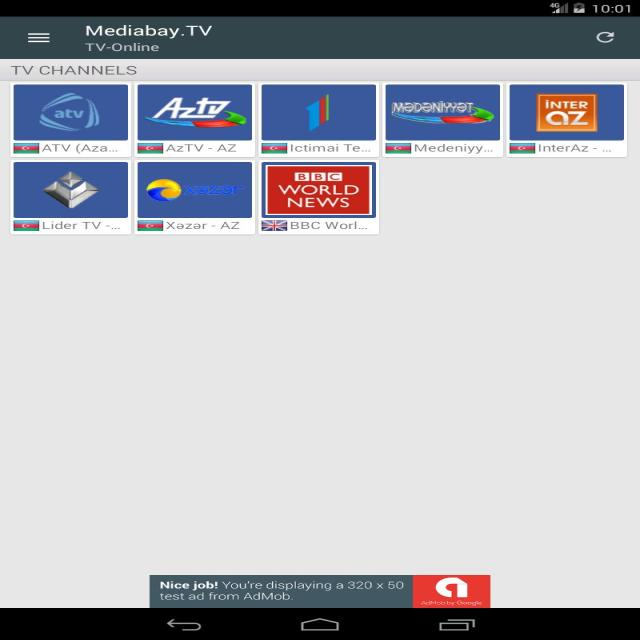button: (136, 160, 255, 237), (507, 82, 624, 159), (258, 82, 376, 158), (261, 160, 377, 236), (11, 83, 129, 157), (136, 83, 252, 157), (384, 83, 500, 157), (14, 162, 129, 235), (585, 26, 629, 52), (22, 27, 56, 48)
heading: (83, 22, 219, 39)
iframe: (149, 574, 489, 606)
text: (11, 59, 137, 81), (82, 41, 166, 55)
